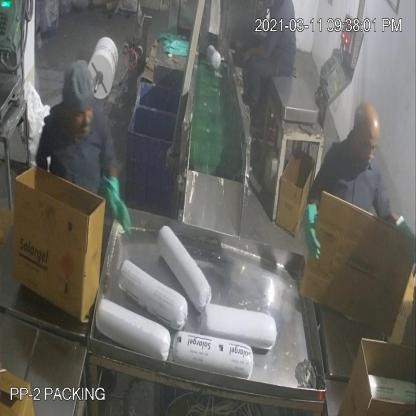glove: (98, 174, 133, 236), (301, 200, 324, 262)
no_glove: (240, 36, 272, 69)
